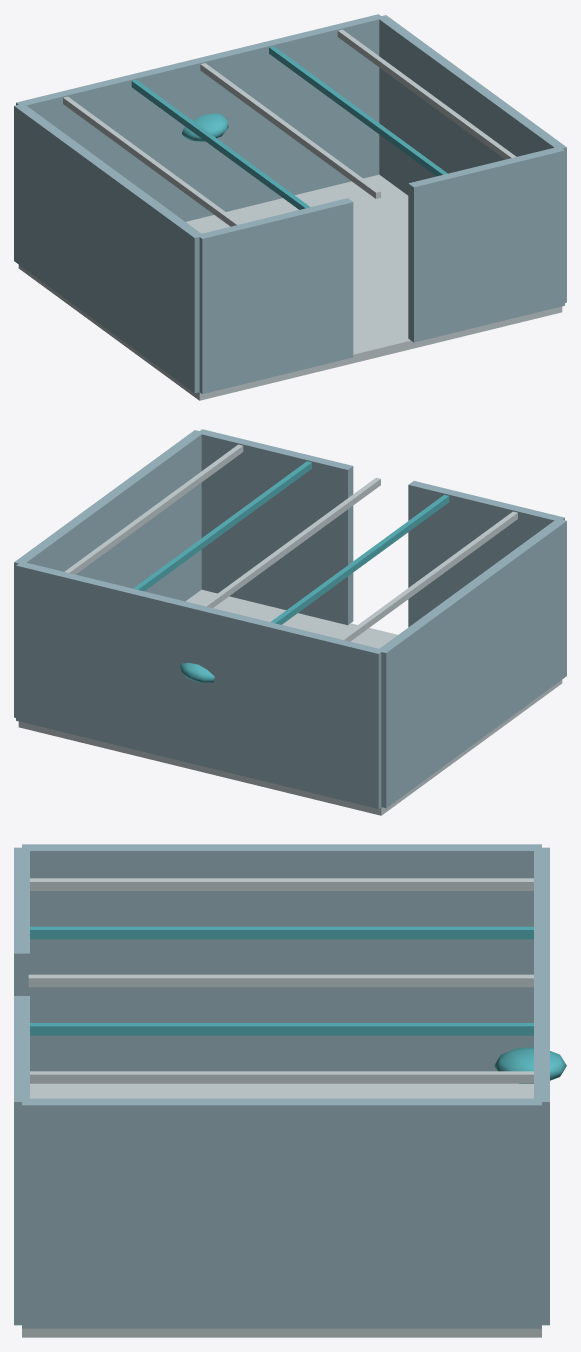
File: mirror_lake_gate.glb
The picture shows the model from 3 angles, top to bottom: view 1: azimuth 30°, elevation 25°; view 2: azimuth 150°, elevation 25°; view 3: azimuth 270°, elevation 25°; orthographic projection. The views are drawn at different scales.
Parts seen in each view (by area): view 1: wall_north, wall_west, wall_south_right, wall_south_left, wall_east, floor, ceiling_beam_0, ceiling_beam_-1, ceiling_beam_2, ceiling_beam_-2, ceiling_beam_1, purpose_aurora_shrine; view 2: wall_north, wall_west, wall_south_right, wall_east, wall_south_left, floor, ceiling_beam_-1, ceiling_beam_0, ceiling_beam_2, ceiling_beam_-2, ceiling_beam_1, purpose_aurora_shrine; view 3: wall_east, wall_west, floor, ceiling_beam_0, ceiling_beam_-1, ceiling_beam_-2, ceiling_beam_1, ceiling_beam_2, wall_north, wall_south_right, wall_south_left, purpose_aurora_shrine.
Part boxes in pixels (x1=…): wall_north: x1=16, y1=14, x2=383, y2=221; wall_west: x1=14, y1=103, x2=203, y2=393; wall_south_right: x1=408, y1=146, x2=564, y2=342; wall_south_left: x1=198, y1=198, x2=353, y2=393; wall_east: x1=377, y1=15, x2=566, y2=302; floor: x1=18, y1=174, x2=562, y2=400; ceiling_beam_0: x1=200, y1=63, x2=380, y2=198; ceiling_beam_-1: x1=131, y1=80, x2=310, y2=209; ceiling_beam_2: x1=337, y1=29, x2=516, y2=159; ceiling_beam_-2: x1=63, y1=96, x2=241, y2=226; ceiling_beam_1: x1=269, y1=46, x2=447, y2=176; purpose_aurora_shrine: x1=182, y1=113, x2=228, y2=141; wall_north: x1=16, y1=561, x2=383, y2=808; wall_west: x1=378, y1=518, x2=566, y2=808; wall_south_right: x1=198, y1=429, x2=353, y2=625; wall_east: x1=14, y1=430, x2=203, y2=717; wall_south_left: x1=408, y1=481, x2=564, y2=627; floor: x1=18, y1=589, x2=562, y2=815; ceiling_beam_-1: x1=270, y1=495, x2=449, y2=624; ceiling_beam_0: x1=202, y1=477, x2=380, y2=607; ceiling_beam_2: x1=64, y1=444, x2=243, y2=574; ceiling_beam_-2: x1=339, y1=511, x2=517, y2=641; ceiling_beam_1: x1=133, y1=461, x2=311, y2=591; purpose_aurora_shrine: x1=180, y1=663, x2=214, y2=682; wall_east: x1=22, y1=1098, x2=541, y2=1328; wall_west: x1=22, y1=844, x2=541, y2=1071; floor: x1=22, y1=1083, x2=541, y2=1337; ceiling_beam_0: x1=28, y1=974, x2=533, y2=987; ceiling_beam_-1: x1=30, y1=926, x2=533, y2=939; ceiling_beam_-2: x1=30, y1=878, x2=533, y2=890; ceiling_beam_1: x1=30, y1=1023, x2=533, y2=1035; ceiling_beam_2: x1=30, y1=1071, x2=533, y2=1083; wall_north: x1=534, y1=847, x2=549, y2=1325; wall_south_right: x1=14, y1=996, x2=29, y2=1325; wall_south_left: x1=14, y1=847, x2=29, y2=995; purpose_aurora_shrine: x1=494, y1=1047, x2=566, y2=1083.
Size of what is drawn, in the model's own units: 13.55 by 5.7 by 12.13.
